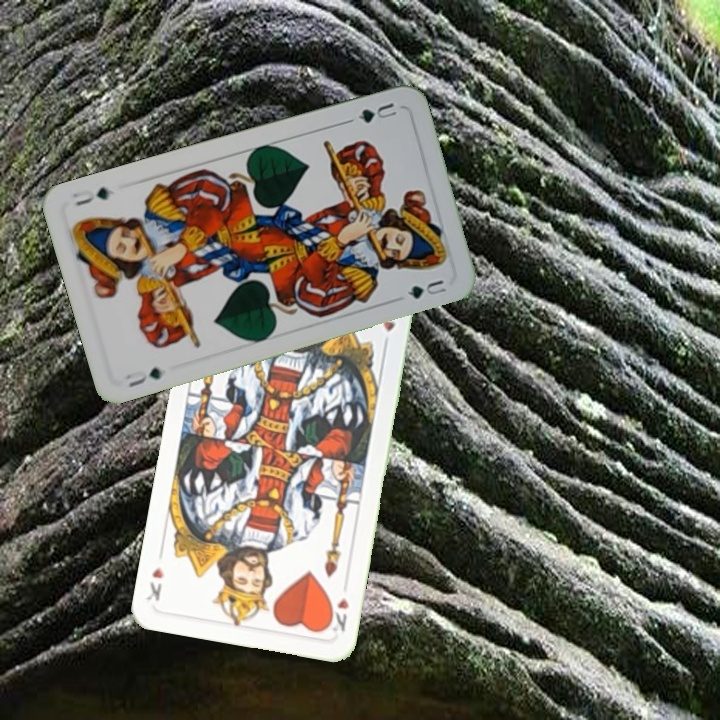GU: (354, 98, 400, 126), (121, 363, 166, 390)
HK: (323, 594, 352, 634)
